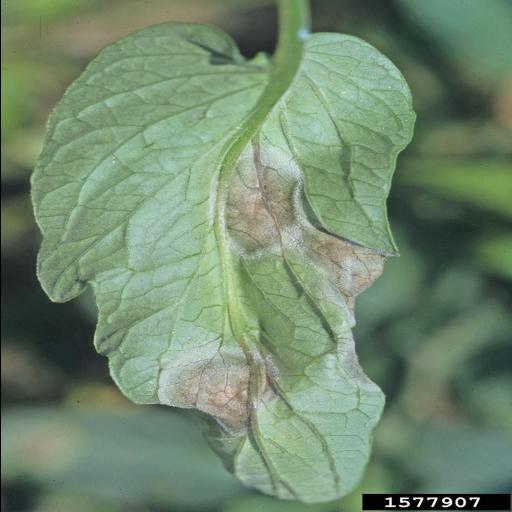disease_tomato: (23, 18, 421, 508)
